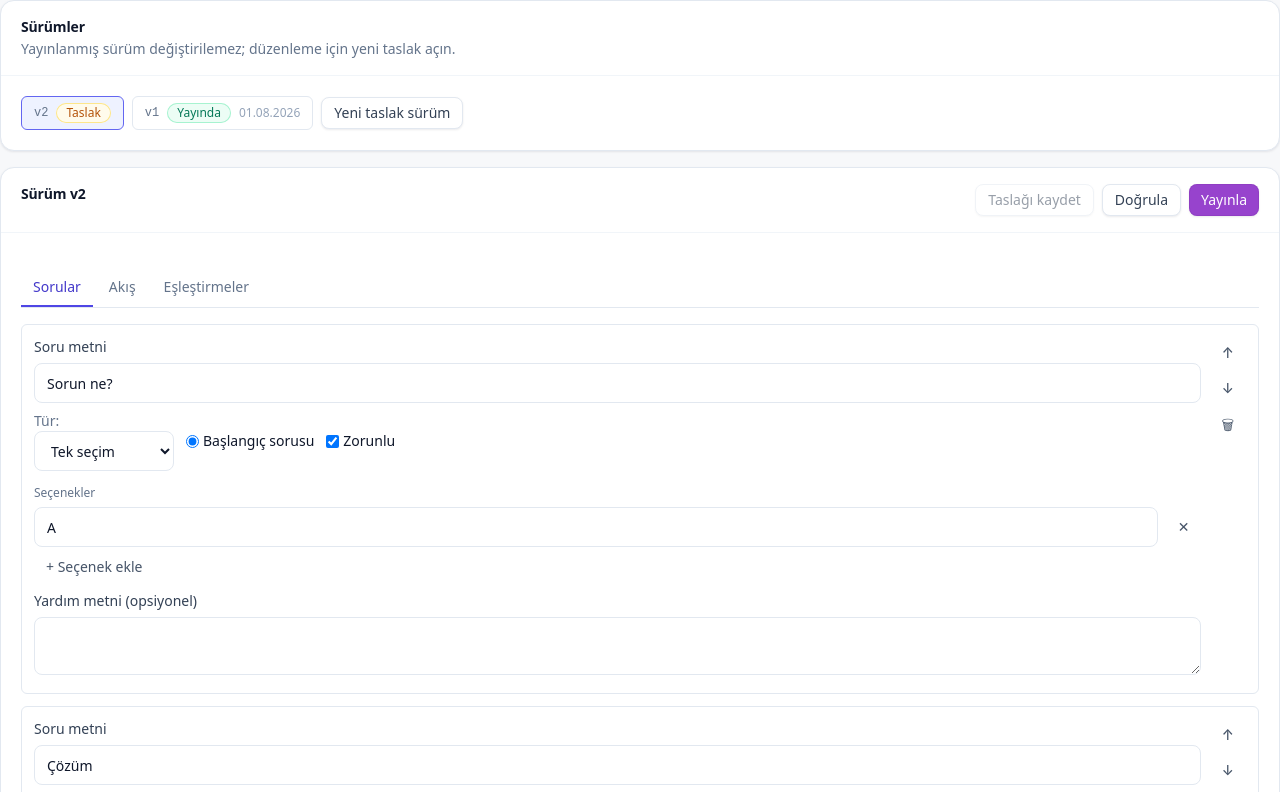
Test case: Question Sets — Platform Admin UI › renders publish validation errors as human sentences (not raw codes)
This screenshot has width=1280, height=792.
Click the button "Doğrula".
click(1141, 200)  # box 1102,184 -> 1181,216
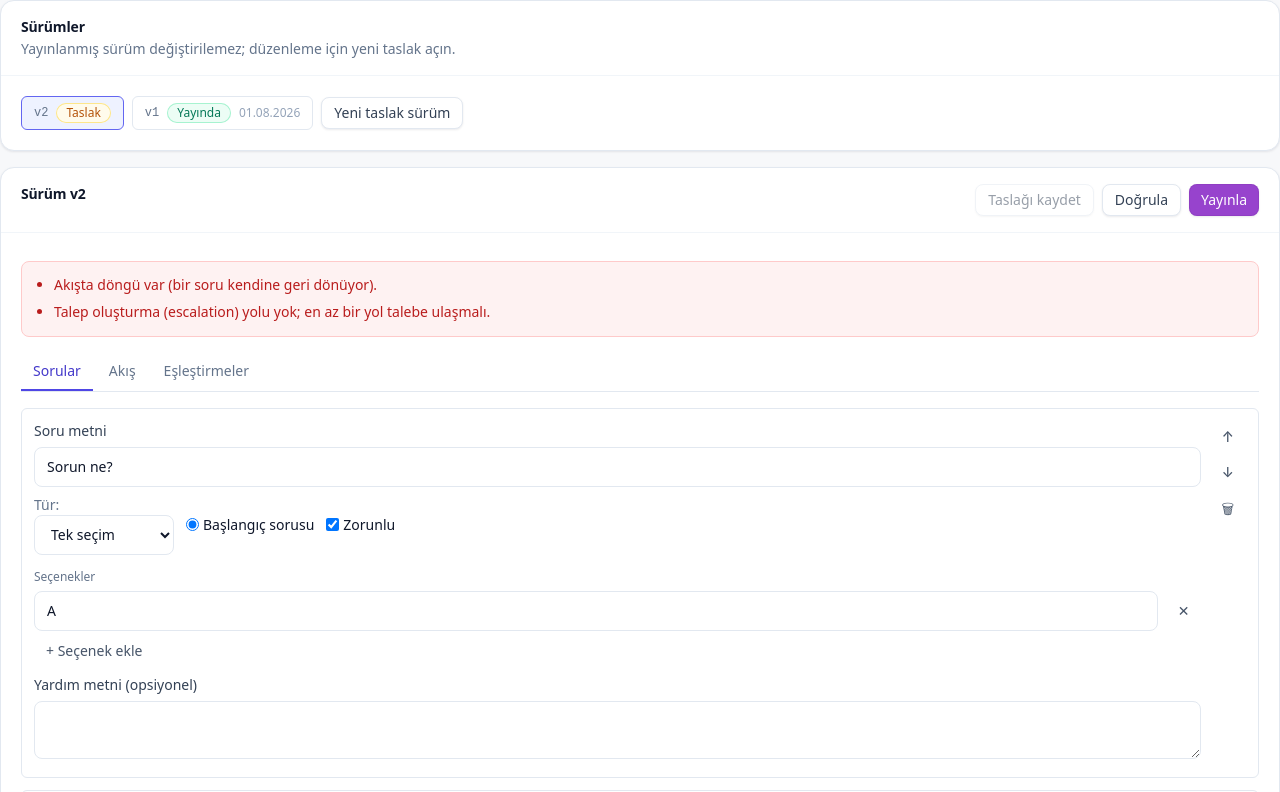
Result: the list item "Akışta döngü var (bir soru kendine geri dönüyor)." is shown at 54,275 -> 377,294
Result: the list item "Talep oluşturma (escalation) yolu yok" is shown at 54,302 -> 490,321
